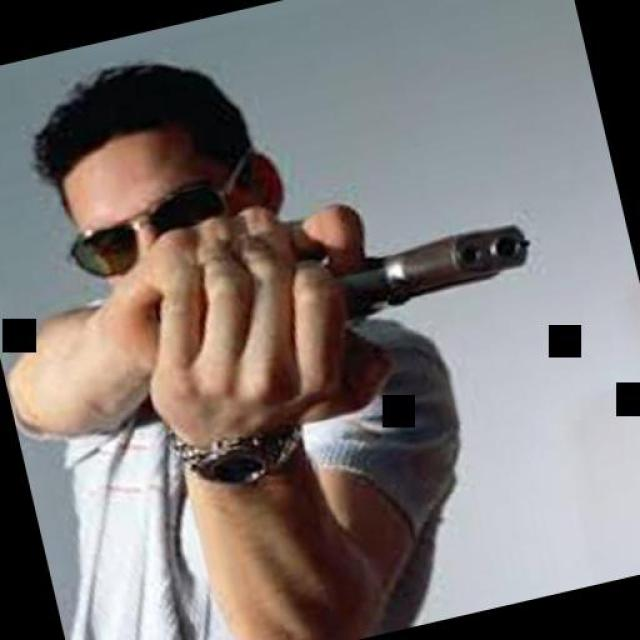gun: (233, 198, 545, 352)
